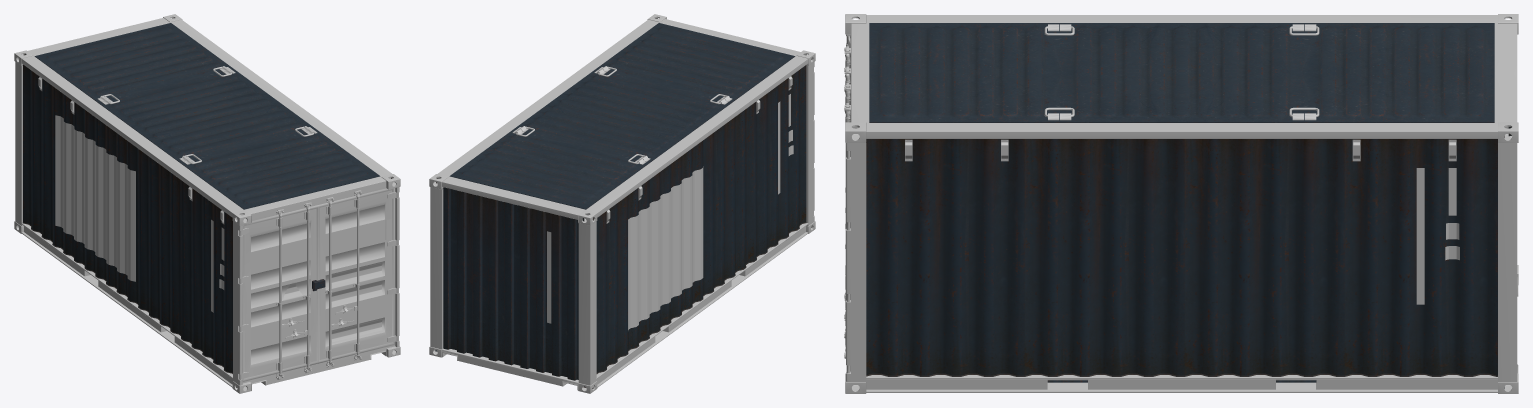
3 views of the same model, side by side, from view 1: azimuth 30°, elevation 25°; view 2: azimuth 150°, elevation 25°; view 3: azimuth 270°, elevation 25° (orthographic). The views are drawn at different scales.
Visible parts, largest first — view 1: Container; view 2: Container; view 3: Container.
Part boxes in pixels (bbox=[...]): Container: bbox=[14, 14, 400, 393]; Container: bbox=[429, 14, 815, 393]; Container: bbox=[844, 14, 1518, 393].
Bounding box in the file's own units: 2.52 × 2.67 × 6.13.
